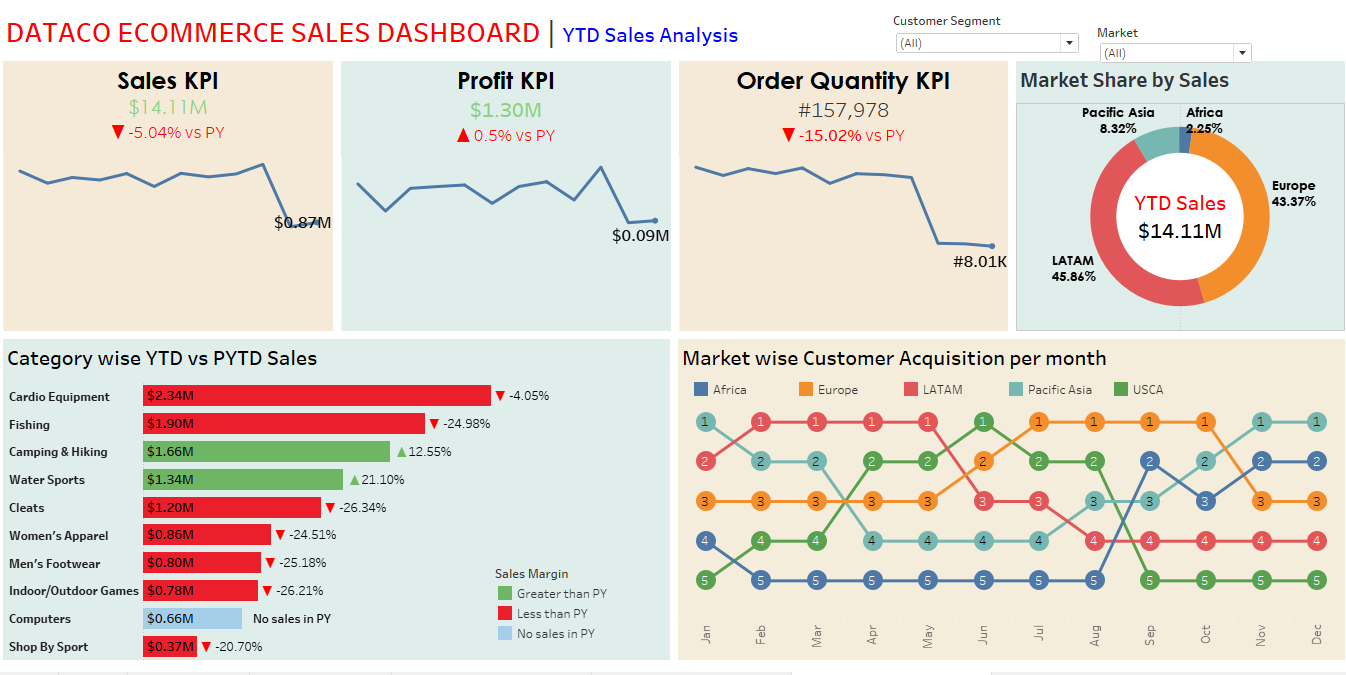

The page's visual inventory and layout, read from the dashboard file:
{"tool":"tableau","page":{"name":"DATACO ECOMMERCE SALES DASHBOARD","canvas":[1000,1000],"units":"permille","ordinal":0},"visuals":[{"type":"title","box":[6,13.5,988.1,87.8]},{"type":"filter","title":"Sales KPI","param":"[federated.0819eqf11sxmjw18678in0naa67j].[none:Market:nk]","box":[809.5,20.3,116,79.4]},{"type":"filter","title":"Sales KPI","param":"[federated.0819eqf11sxmjw18678in0naa67j].[none:Customer Segment:nk]","box":[660.6,22,138.5,74.3]},{"type":"worksheet","title":"Sales KPI","mark":"Automatic","rows":["Sales"],"cols":["Order Date"],"box":[6,101.4,247,398.7]},{"type":"worksheet","title":"Profit KPI","mark":"Automatic","rows":["Profit Per Order"],"cols":["Order Date"],"box":[253,101.4,247,398.7]},{"type":"worksheet","title":"Order Quantity KPI","mark":"Automatic","rows":["Order Quantity"],"cols":["Order Date"],"box":[500,101.4,247,398.7]},{"type":"worksheet","title":"Market Share by Sales","mark":"Pie","cols":["Calculation_164944371155279875","Calculation_164944371155337221"],"box":[747,101.4,247,398.7]},{"type":"worksheet","title":"Category wise YTD vs PYTD Sales","mark":"Bar","rows":["Category Name"],"cols":["YTD Sales LOD (copy)_164944371156824070","YTD Sales LOD (copy)_164944371156824070"],"box":[6,500,494.4,486.5]},{"type":"worksheet","title":"Market wise Customer Acquisition per month","mark":"Automatic","cols":["Order Date"],"box":[500.3,500,493.7,486.5]},{"type":"legend","title":"Market wise Customer Acquisition per month","param":"[federated.0819eqf11sxmjw18678in0naa67j].[none:Market:nk]","box":[512.5,565.9,456.3,35.5]},{"type":"legend","title":"Category wise YTD vs PYTD Sales","param":"[federated.0819eqf11sxmjw18678in0naa67j].[usr:Calculation_860750513620557826:nk]","box":[368.8,841.2,121.2,131.8]}]}

Visuals, with their boxes on the dashboard's canvas, which has no fixed pixel size, in thousandths of its width and height (x1, y1, x2, y2). These are canvas units, not pixel positions in the 1346x675 screenshot, which may show the page scaled, cropped or inside an application window:
title: <box>6,14,994,101</box>
"Sales KPI" filter: <box>810,20,926,100</box>
"Sales KPI" filter: <box>661,22,799,96</box>
"Sales KPI" worksheet: <box>6,101,253,500</box>
"Profit KPI" worksheet: <box>253,101,500,500</box>
"Order Quantity KPI" worksheet: <box>500,101,747,500</box>
"Market Share by Sales" worksheet (Pie marks): <box>747,101,994,500</box>
"Category wise YTD vs PYTD Sales" worksheet (Bar marks): <box>6,500,500,986</box>
"Market wise Customer Acquisition per month" worksheet: <box>500,500,994,986</box>
"Market wise Customer Acquisition per month" legend: <box>512,566,969,601</box>
"Category wise YTD vs PYTD Sales" legend: <box>369,841,490,973</box>
